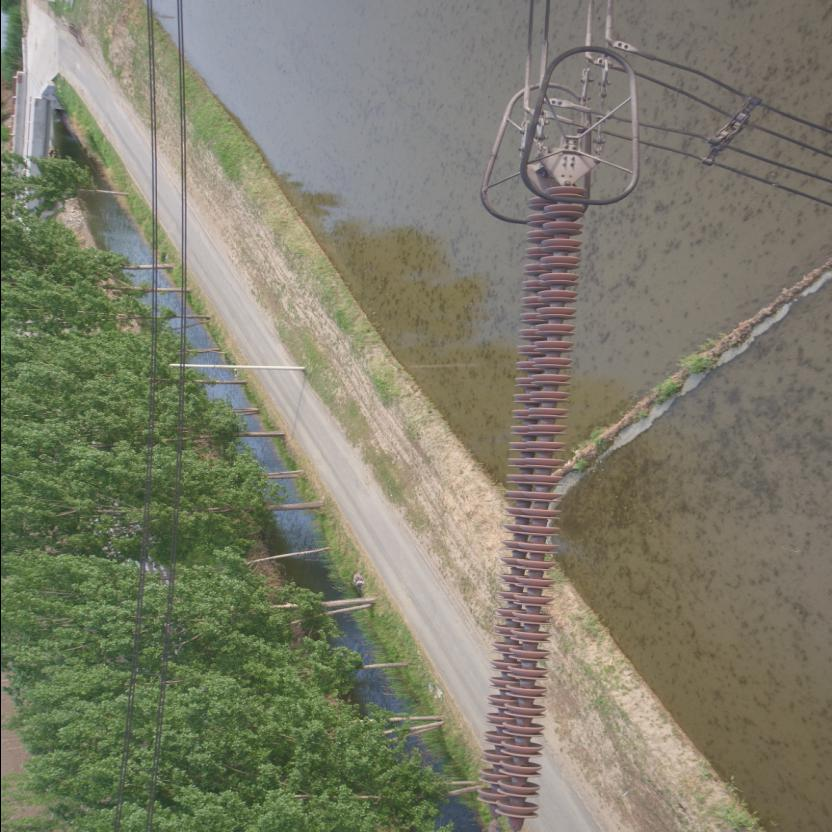insulator: (470, 171, 590, 831)
